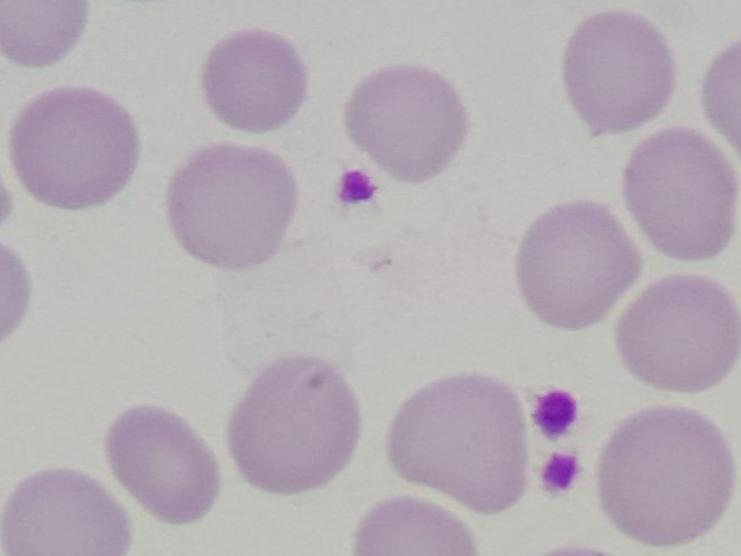Uninfected: (389, 373, 529, 517), (593, 405, 733, 545), (226, 356, 356, 497), (516, 195, 642, 331), (10, 86, 140, 214), (167, 142, 295, 269), (621, 128, 736, 265), (341, 65, 468, 182), (616, 273, 738, 391), (563, 10, 677, 136), (103, 405, 219, 527), (0, 468, 132, 556), (201, 28, 306, 136)
